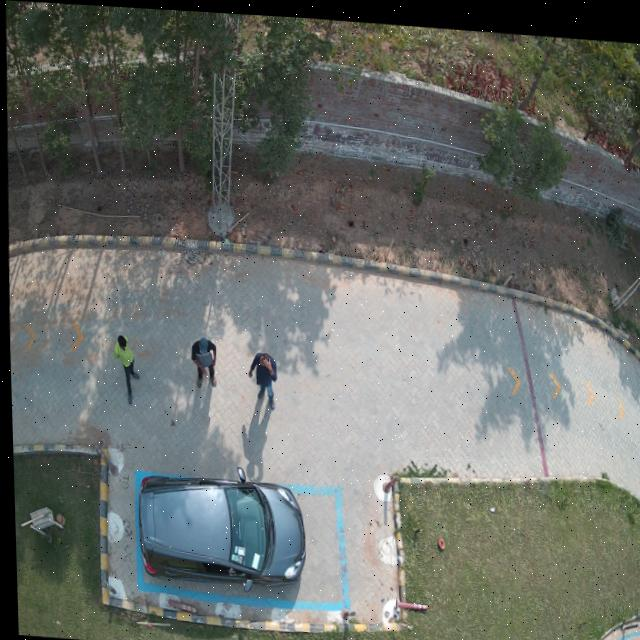car: (133, 466, 301, 588)
